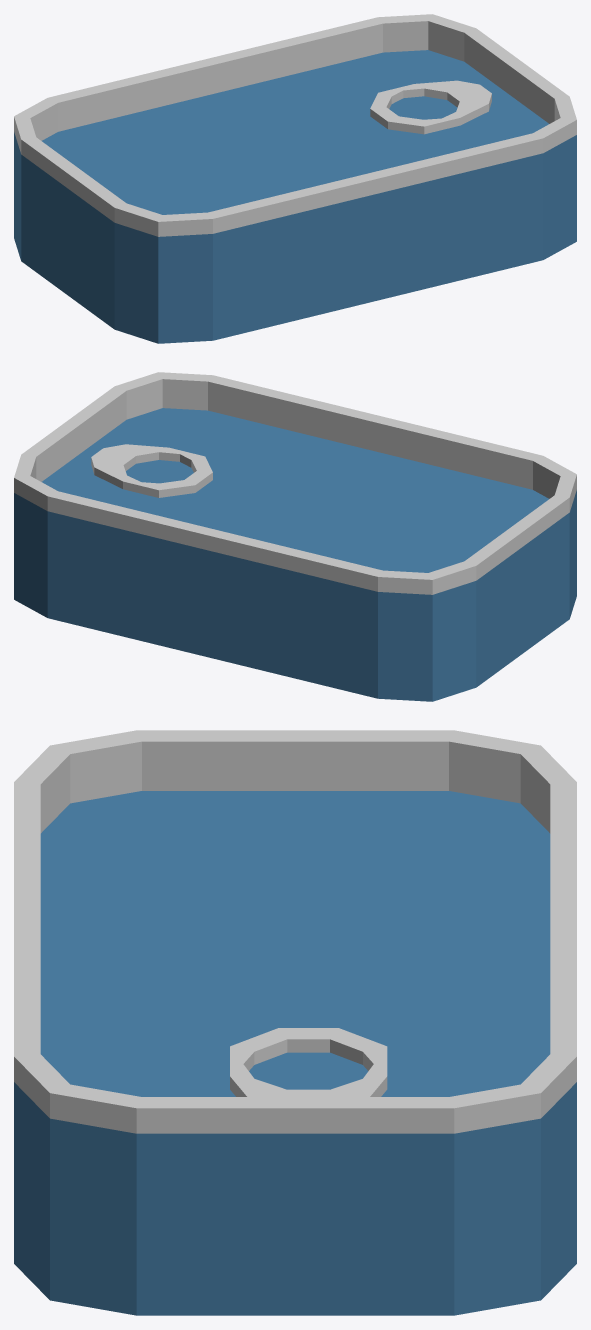
Rendered from Ma_Canned_Small_1.fbx.
The picture shows the model from 3 angles, top to bottom: view 1: azimuth 30°, elevation 25°; view 2: azimuth 150°, elevation 25°; view 3: azimuth 270°, elevation 25°; orthographic projection. The views are drawn at different scales.
Parts seen in each view (by area): view 1: Ma_Canned_Small_1; view 2: Ma_Canned_Small_1; view 3: Ma_Canned_Small_1.
Part boxes in pixels (x1,y1,x2,y2): Ma_Canned_Small_1: (14, 14, 576, 343); Ma_Canned_Small_1: (14, 372, 576, 701); Ma_Canned_Small_1: (14, 730, 576, 1315).
Size of the model in its own units: 101 by 63.68 by 25.88.
